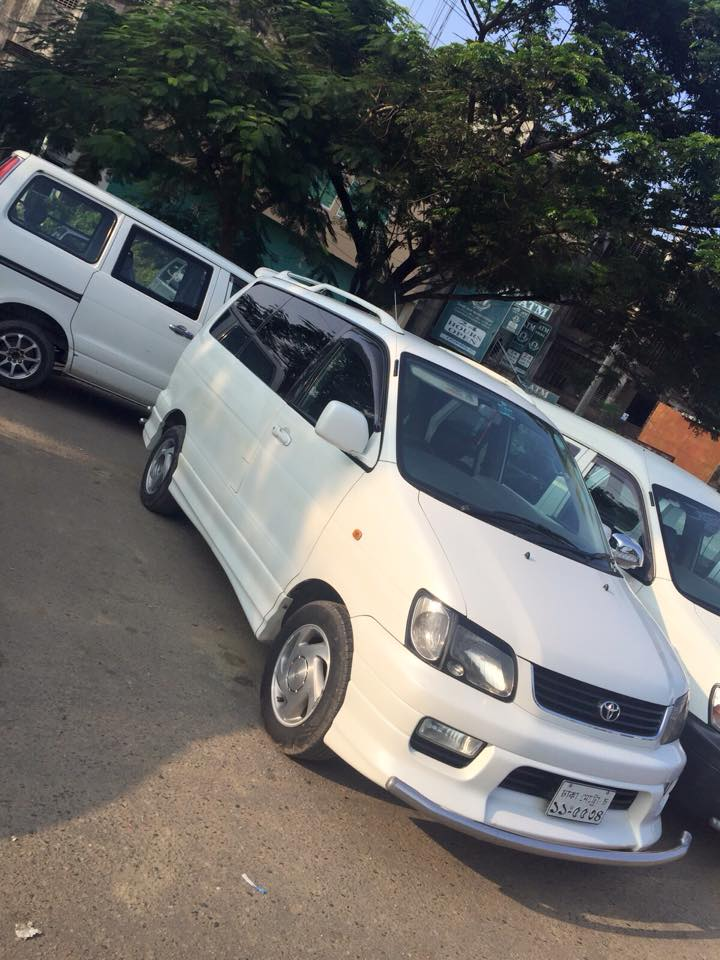registration_plate: (545, 778, 618, 827)
